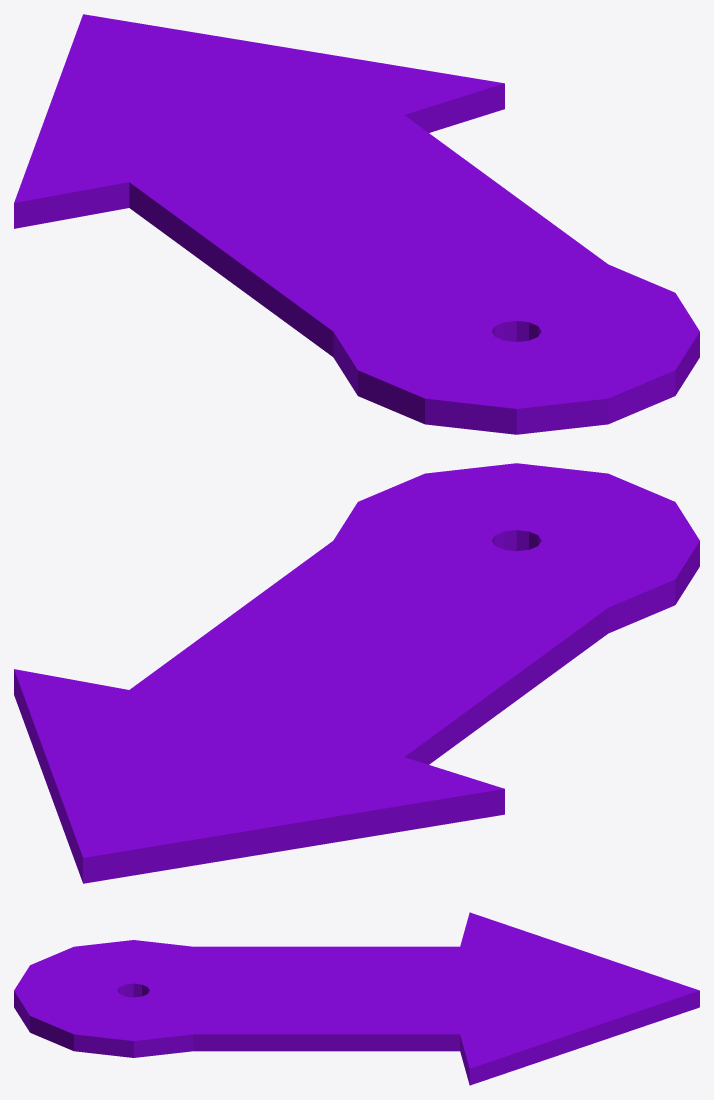
Rendered from hourPointer.fbx.
The picture shows the model from 3 angles, top to bottom: view 1: azimuth 30°, elevation 25°; view 2: azimuth 150°, elevation 25°; view 3: azimuth 270°, elevation 25°; orthographic projection. The views are drawn at different scales.
Visible parts, largest first — view 1: HourPointer; view 2: HourPointer; view 3: HourPointer.
Part boxes in pixels (x1,y1,x2,y2): HourPointer: (14, 14, 699, 434); HourPointer: (14, 463, 699, 883); HourPointer: (14, 912, 699, 1085).
Size of the model in its own units: 44.59 by 2.24 by 82.62.
